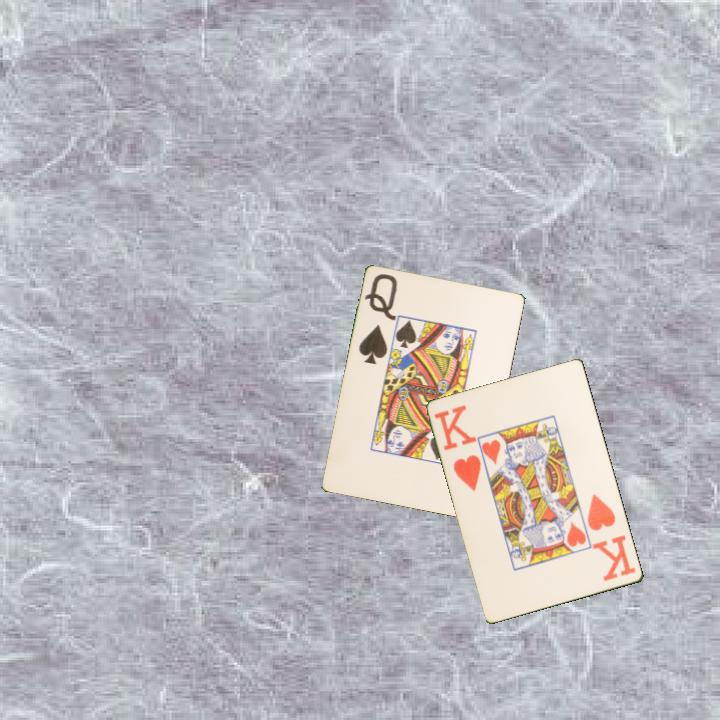Kh: (584, 491, 639, 585), (431, 401, 484, 494)
Qs: (355, 270, 401, 368)
